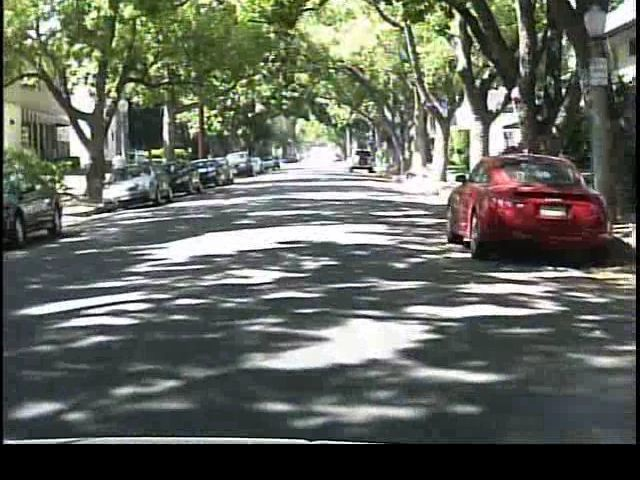person: (111, 147, 134, 198)
